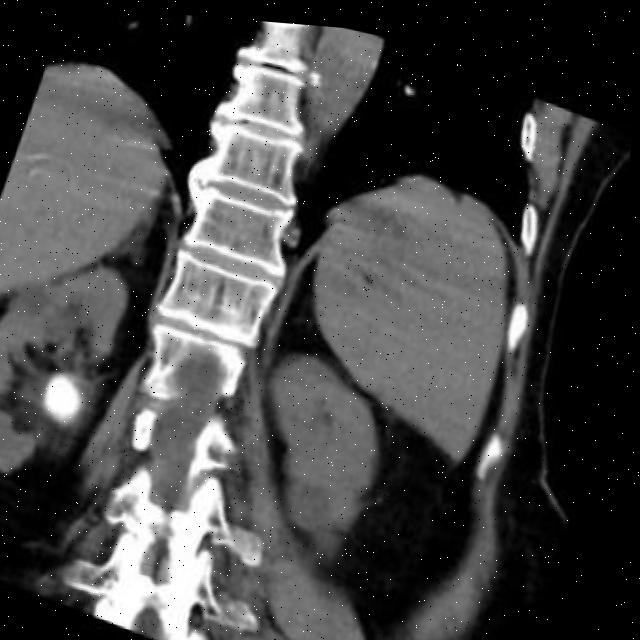Tas_Var: (33, 355, 106, 436)
